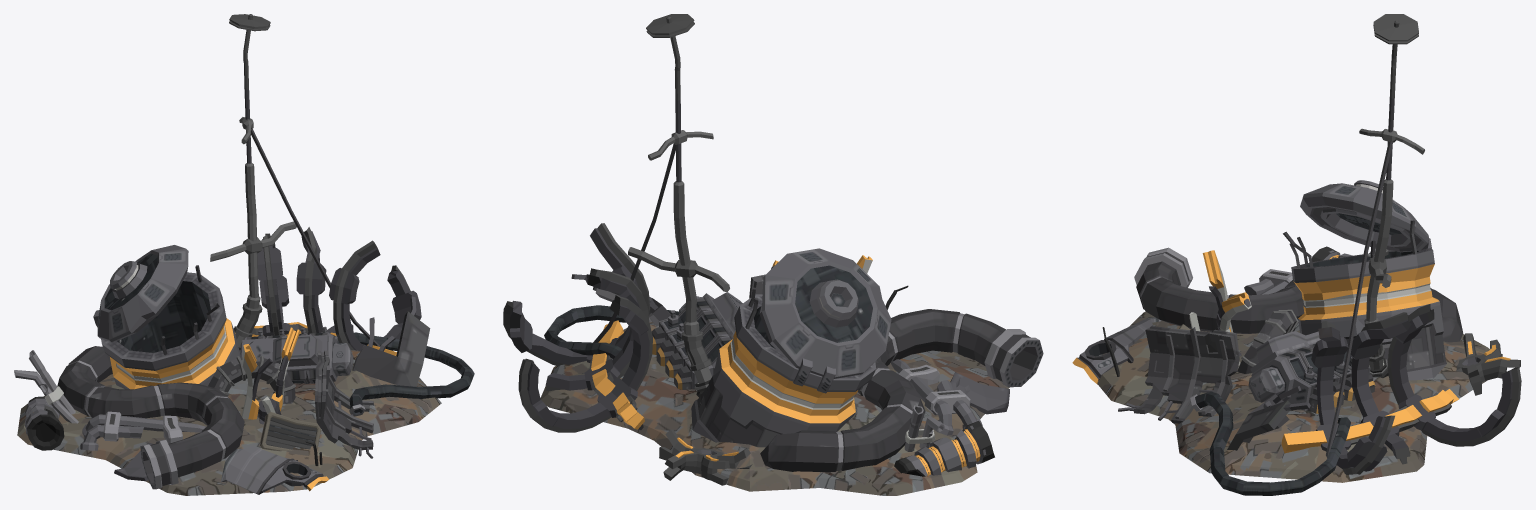
File: worlds_SM_Prop_Scav_Scrap_Pile_02.gltf
3 renders of one model, left to right at view 1: azimuth 30°, elevation 25°; view 2: azimuth 150°, elevation 25°; view 3: azimuth 270°, elevation 25°, orthographic. The views are drawn at different scales.
Visible parts, largest first — view 1: SM_Prop_Scav_Scrap_Pile_02; view 2: SM_Prop_Scav_Scrap_Pile_02; view 3: SM_Prop_Scav_Scrap_Pile_02.
Boxes of the visible parts, left/top/right/bottom form: SM_Prop_Scav_Scrap_Pile_02: left=14, top=14, right=474, bottom=495; SM_Prop_Scav_Scrap_Pile_02: left=503, top=14, right=1043, bottom=495; SM_Prop_Scav_Scrap_Pile_02: left=1072, top=14, right=1521, bottom=495.
Bounding box in the file's own units: 25.66 × 22.7 × 21.87.
2 materials, 2 textured.
